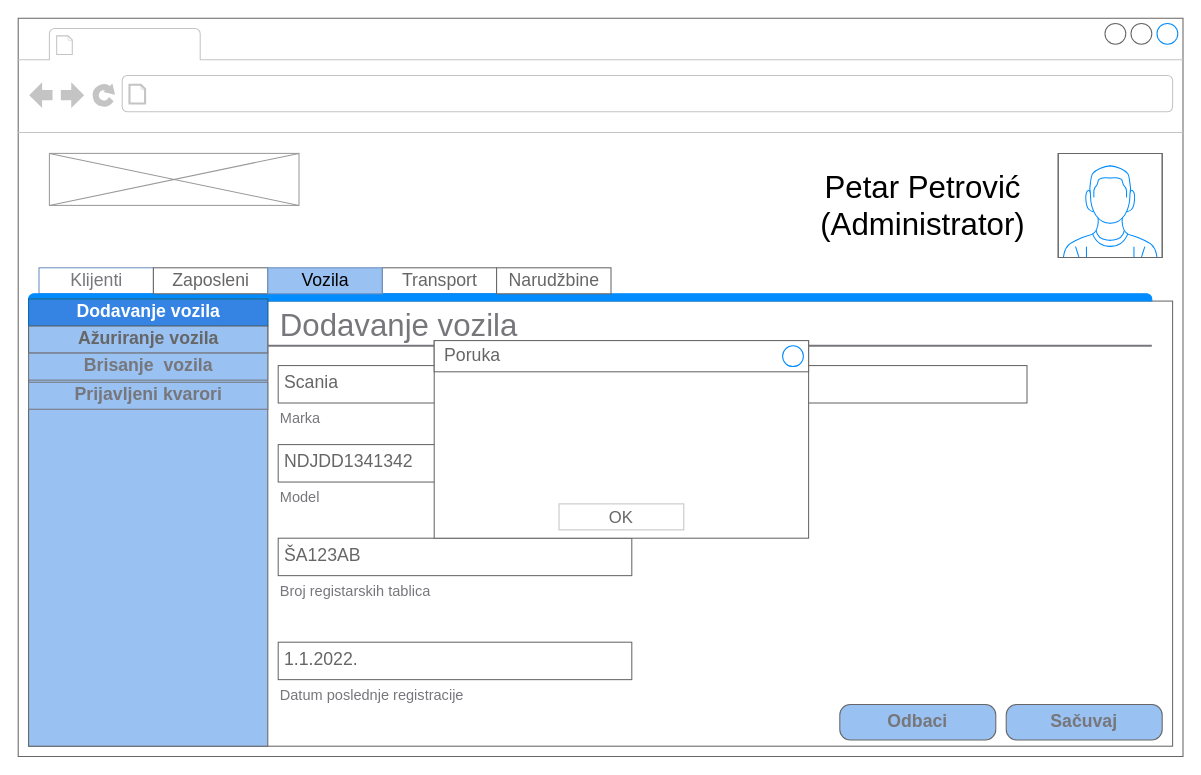
Image size: 1201x775. Some labels were removed from this diagram. The box of each missing label's shape, as (x1, y1, x2, y2) in pixels:
https://www.transportsecera.com/admin/vozila: (152, 80, 621, 108)
LOGO: (48, 152, 299, 205)
Transport šećera: (80, 28, 195, 60)
Uspešno ste dodali vozilo.: (433, 340, 809, 538)
